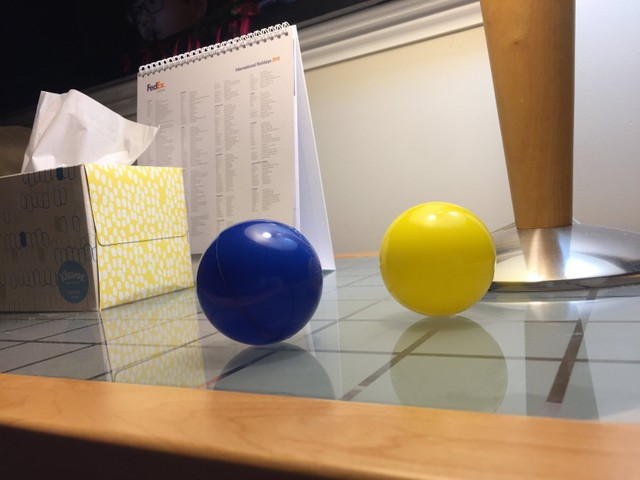Ball: (196, 219, 322, 341)
